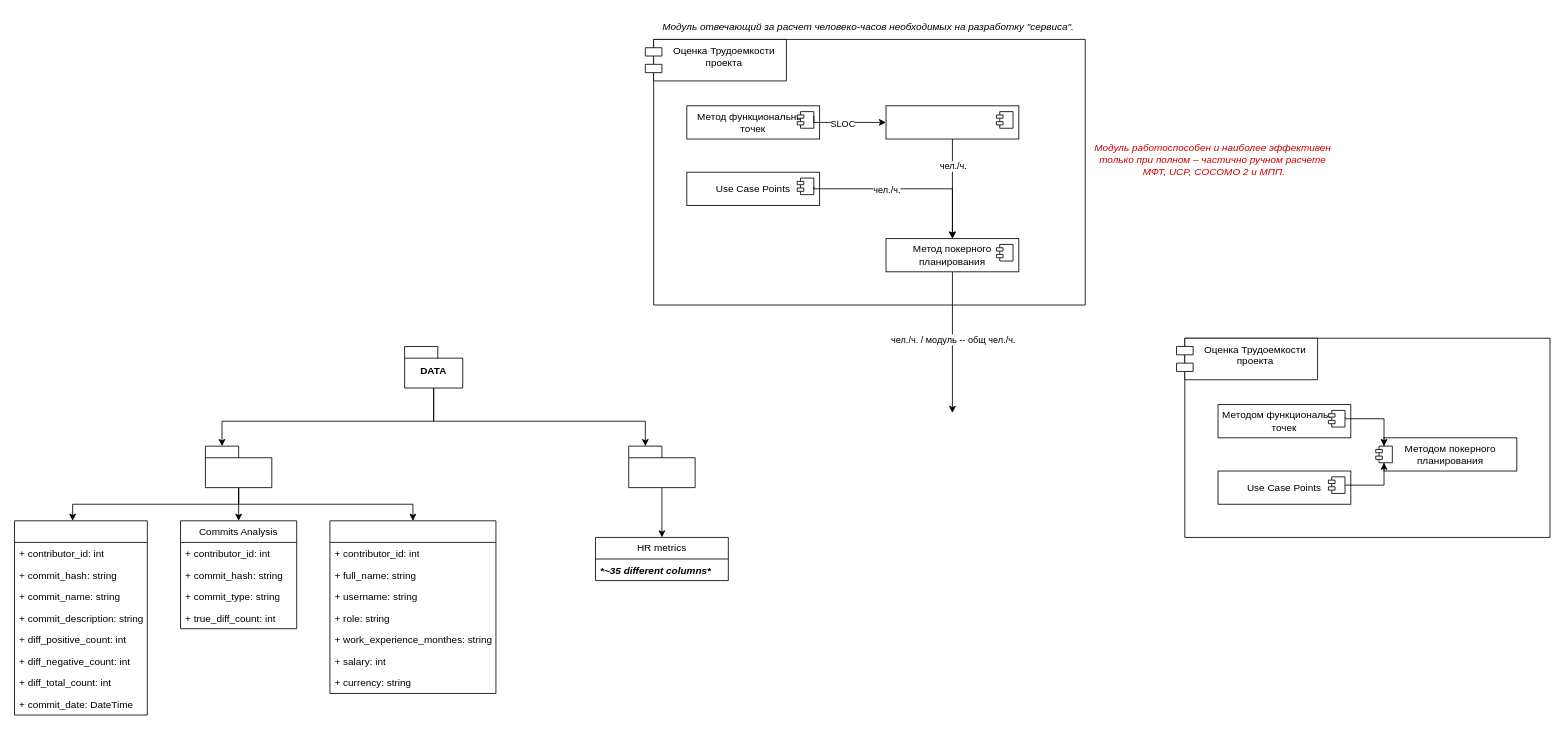
Image size: 1565x731. Some labels were removed from this diagram. Each missing label, with the box of its shape:
COCOMO 2: (885, 105, 1019, 139)
Commits Stats: (14, 520, 147, 715)
Contributors: (329, 520, 496, 693)
Global Data: (628, 445, 695, 488)
Internal Data: (205, 445, 272, 488)
